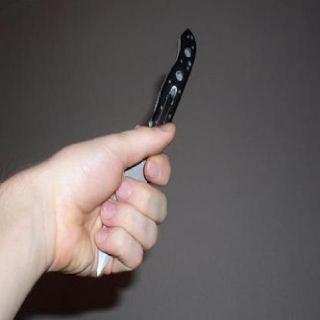knife: (86, 22, 200, 282)
